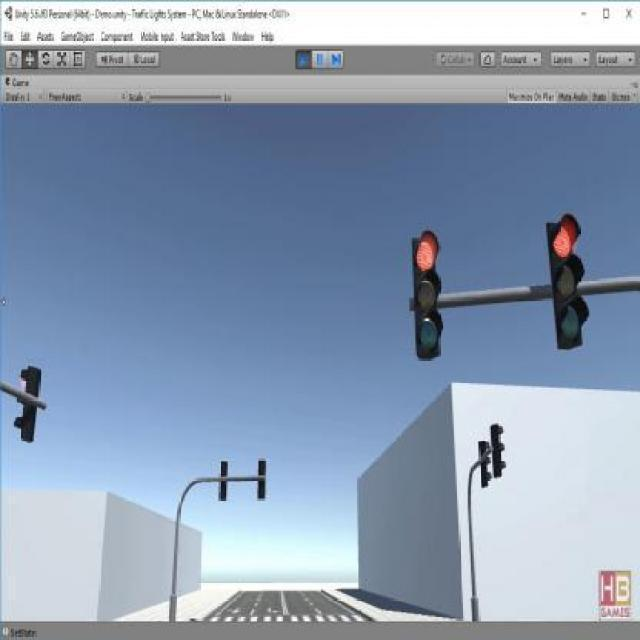red_light: (542, 208, 588, 354), (412, 224, 443, 362)
